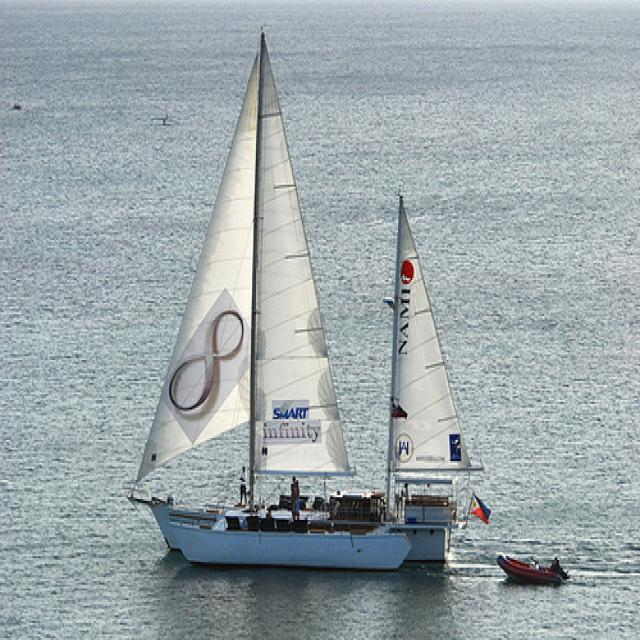Ship: (128, 23, 481, 571)
